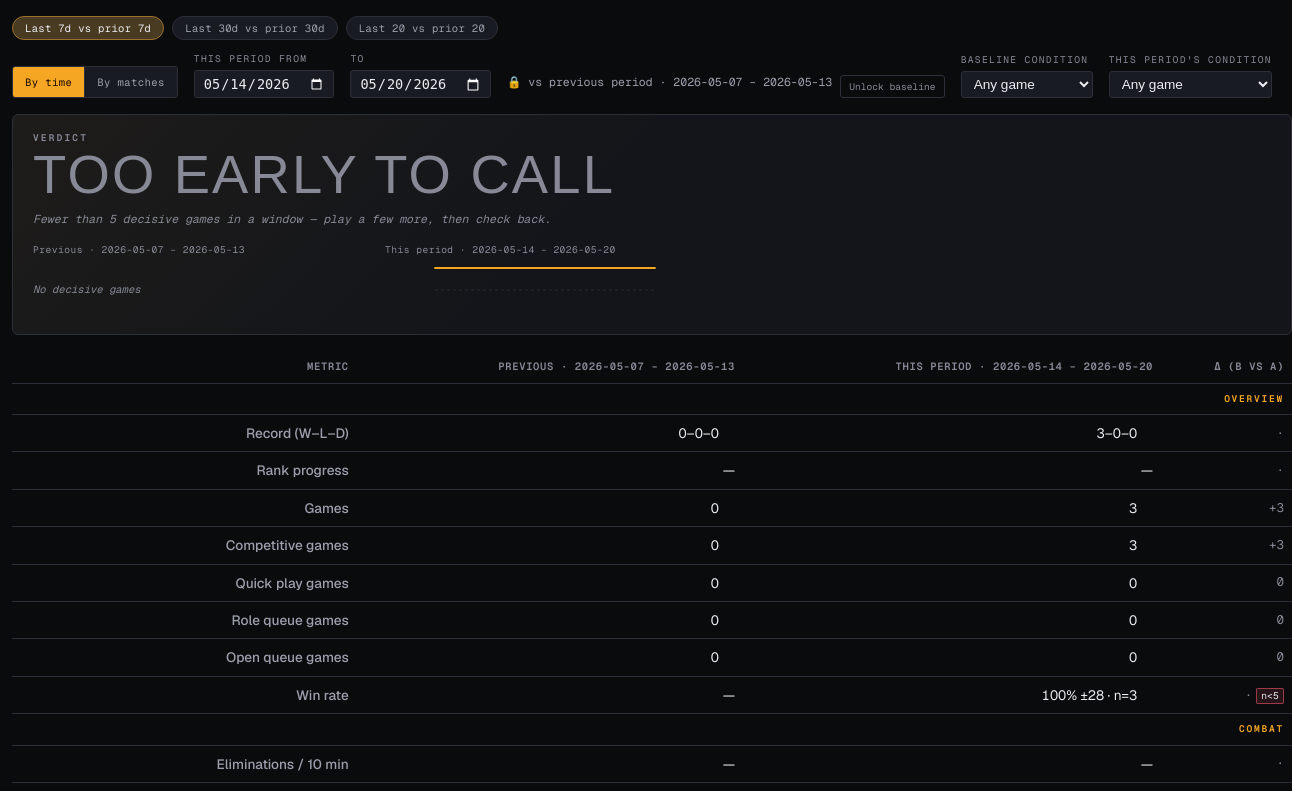
Test: FormCompareView — pairing controls › swaps the date pickers for a window-size picker in by-matches mode
Click the button "Last 20 vs prior 20": (422, 28) 346,16 -> 498,40
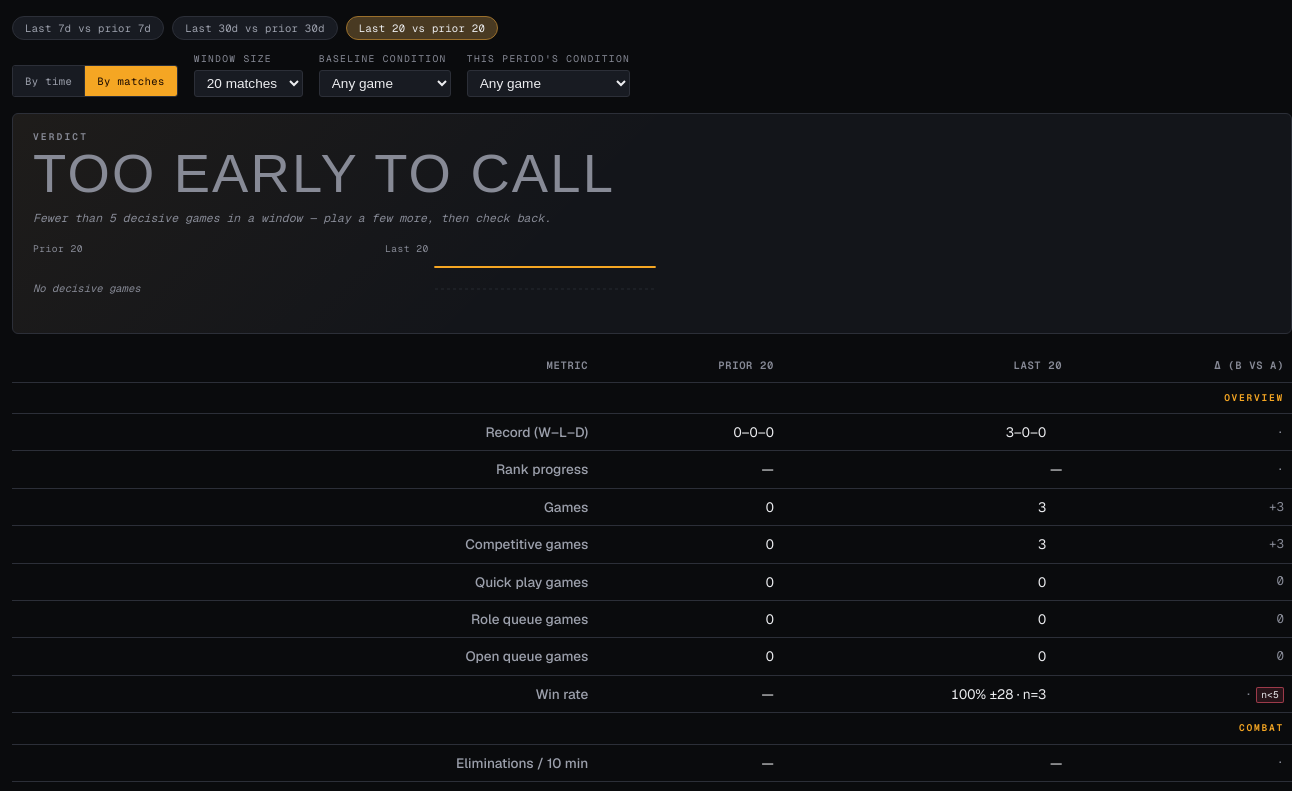
Expected: the text labelled "This period from" is gone
Expected: the dropdown labelled "Window size" shows "20 matches", 194,70 -> 303,97
Expected: the column heading "Last 20" is shown, 782,350 -> 1070,382
